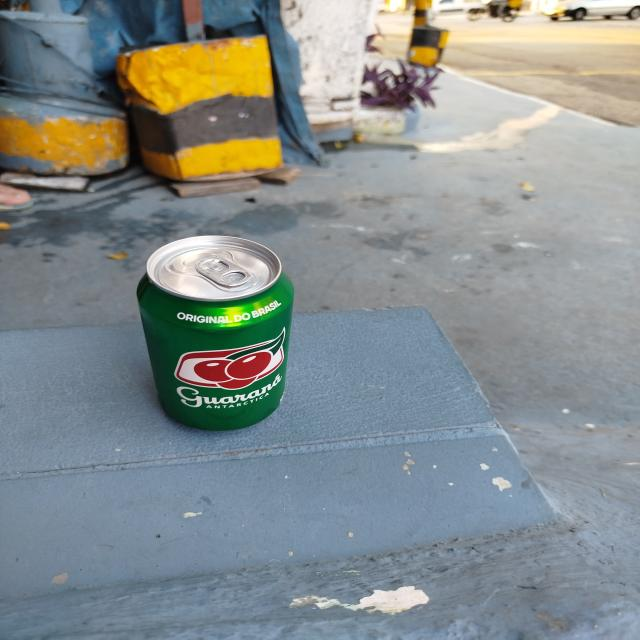Guarana: (138, 234, 296, 434)
